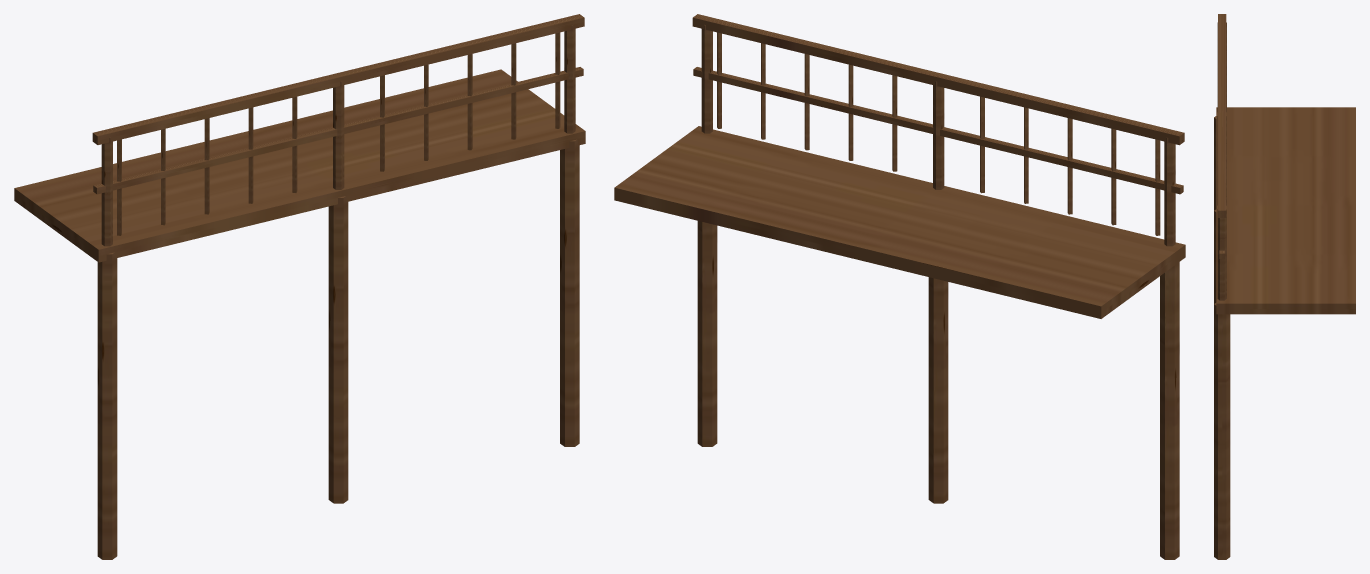
The model's file is balcony_4m.glb.
3 renders of one model, left to right at view 1: azimuth 30°, elevation 25°; view 2: azimuth 150°, elevation 25°; view 3: azimuth 270°, elevation 25°, orthographic. The views are drawn at different scales.
Parts seen in each view (by area): view 1: Balcony_4m; view 2: Balcony_4m; view 3: Balcony_4m.
Boxes of the visible parts, left/top/right/bottom form: Balcony_4m: left=14, top=14, right=585, bottom=559; Balcony_4m: left=614, top=14, right=1185, bottom=559; Balcony_4m: left=1214, top=14, right=1355, bottom=559.
Size of the model in its own units: 4 by 3.33 by 1.22.
1 material, 1 textured.
